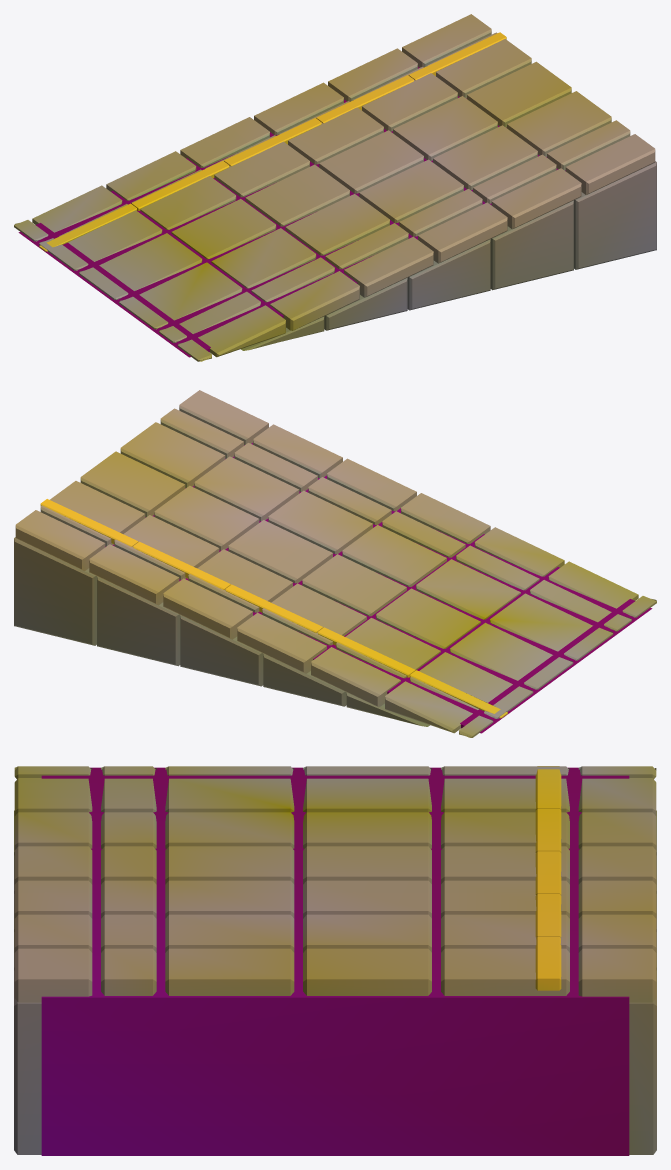
Rendered from Platform_Ramp_Start.glb.
3 renders of one model, top to bottom at view 1: azimuth 30°, elevation 25°; view 2: azimuth 150°, elevation 25°; view 3: azimuth 270°, elevation 25°, orthographic. The views are drawn at different scales.
Parts seen in each view (by area): view 1: Platform_Ramp_Start; view 2: Platform_Ramp_Start; view 3: Platform_Ramp_Start.
Part boxes in pixels (left/top/right/bottom): Platform_Ramp_Start: left=14, top=14, right=656, bottom=361; Platform_Ramp_Start: left=14, top=390, right=656, bottom=737; Platform_Ramp_Start: left=14, top=766, right=656, bottom=1155.
Size of the model in its own units: 5 by 1.06 by 3.5.
